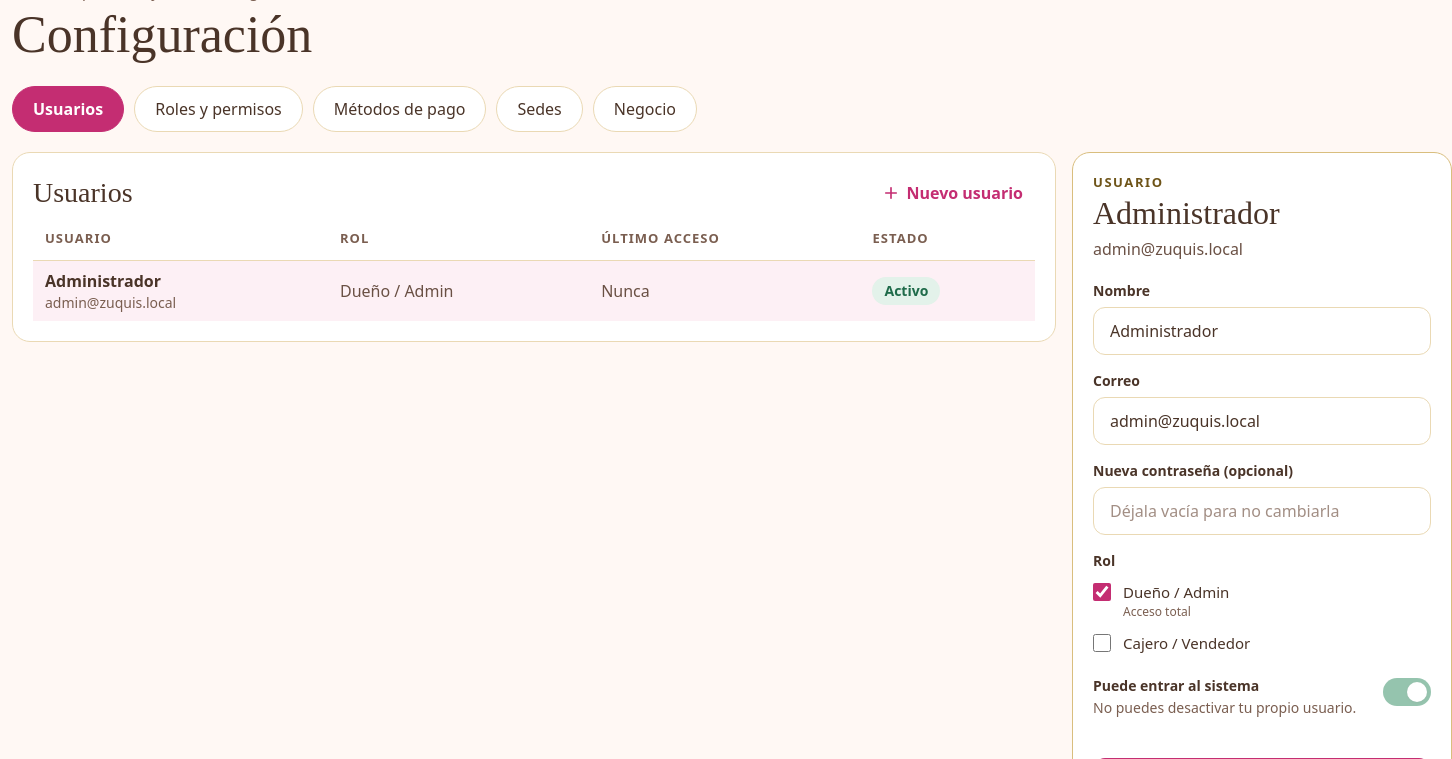
Test: Configuración › valida el usuario nuevo antes de enviarlo
This screenshot has width=1452, height=759.
Expected: the heading "Administrador" is shown, left=1093, top=195, right=1280, bottom=231
Click the button "Nuevo usuario": (953, 193) left=870, top=173, right=1035, bottom=213
(page scrolled)
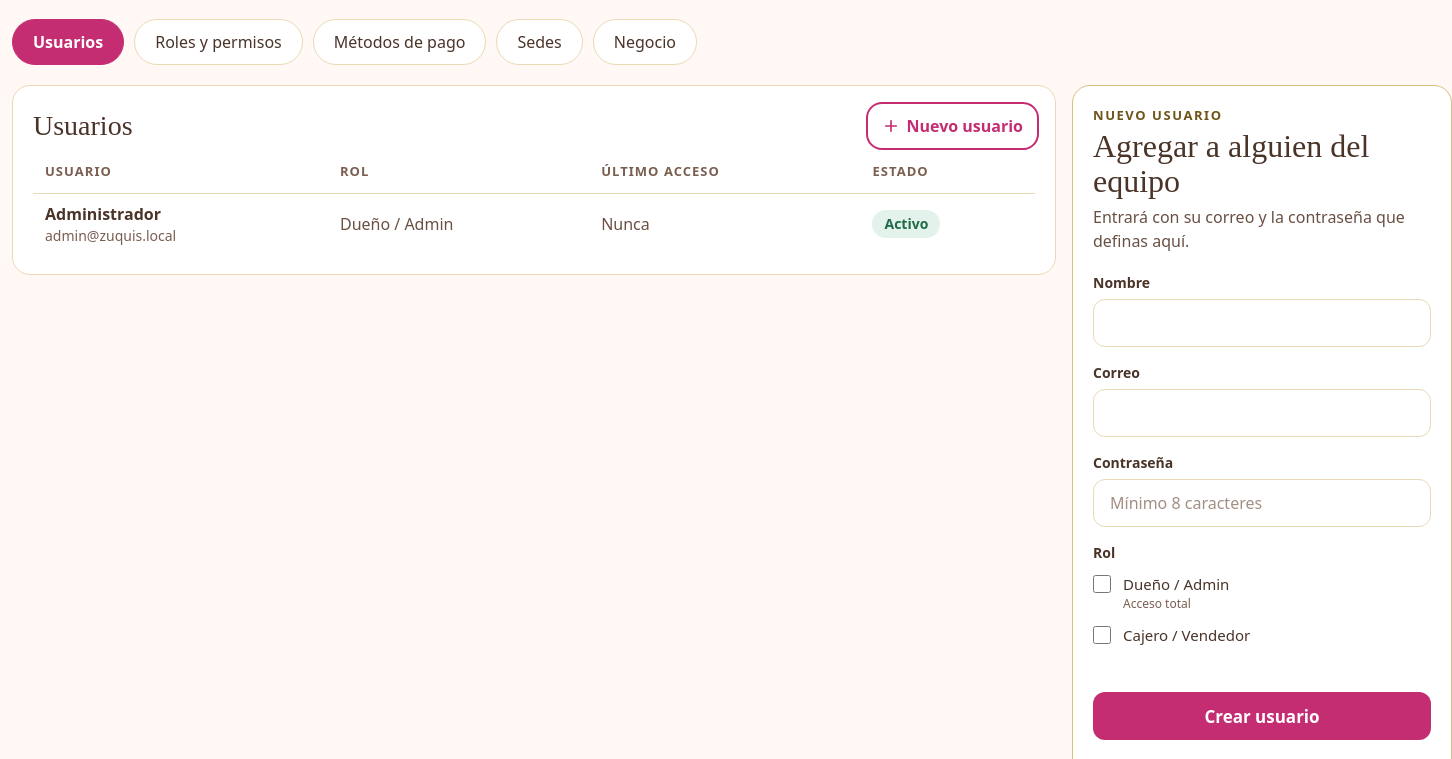
Click the button "Crear usuario": (1262, 716) left=1093, top=692, right=1431, bottom=740
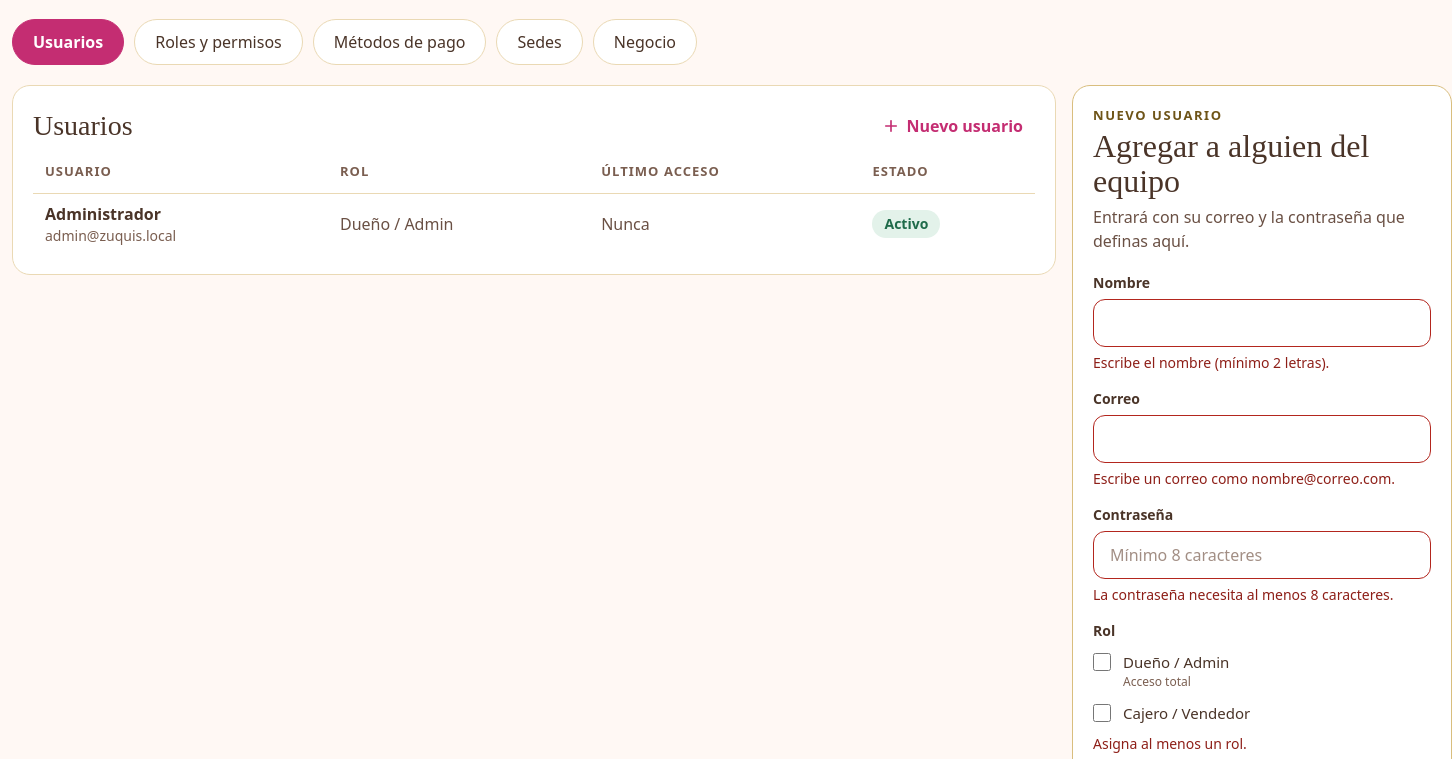
Result: the text "La contraseña necesita al menos 8 caracteres." is shown at left=1093, top=586, right=1431, bottom=606
Result: the text "Asigna al menos un rol." is shown at left=1093, top=734, right=1247, bottom=754
